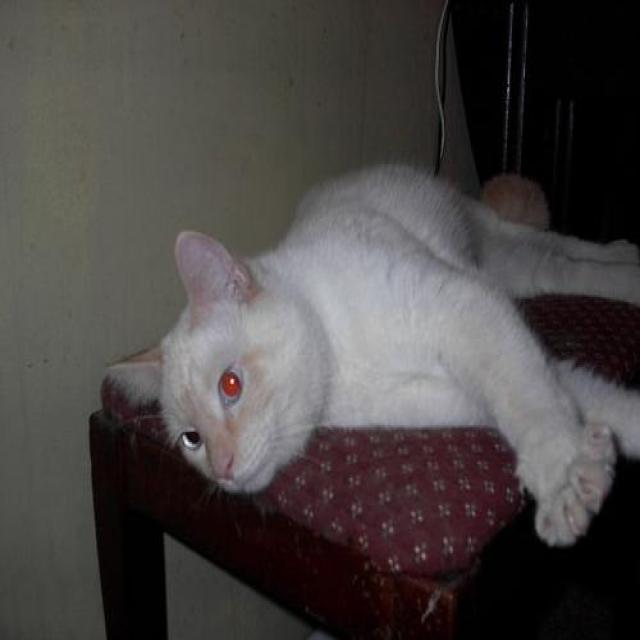Cats: (101, 160, 639, 548)
